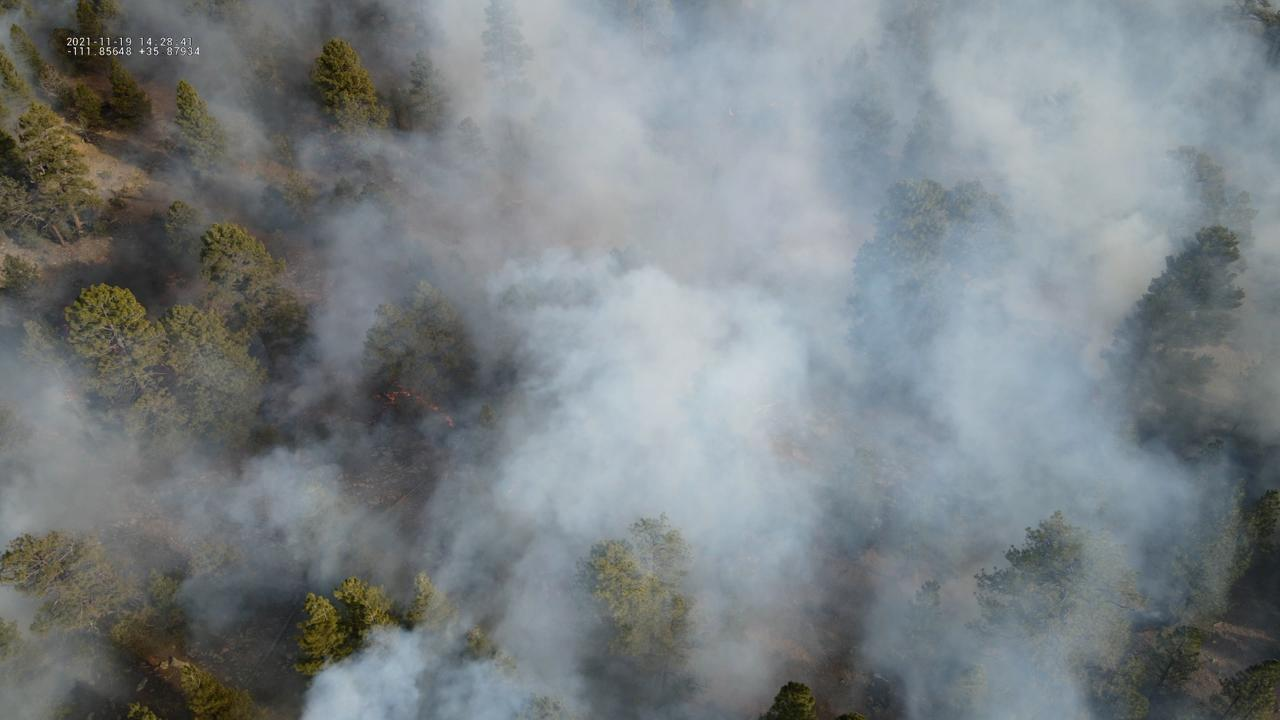fire: (369, 387, 455, 429)
smoke: (0, 0, 1280, 720)
